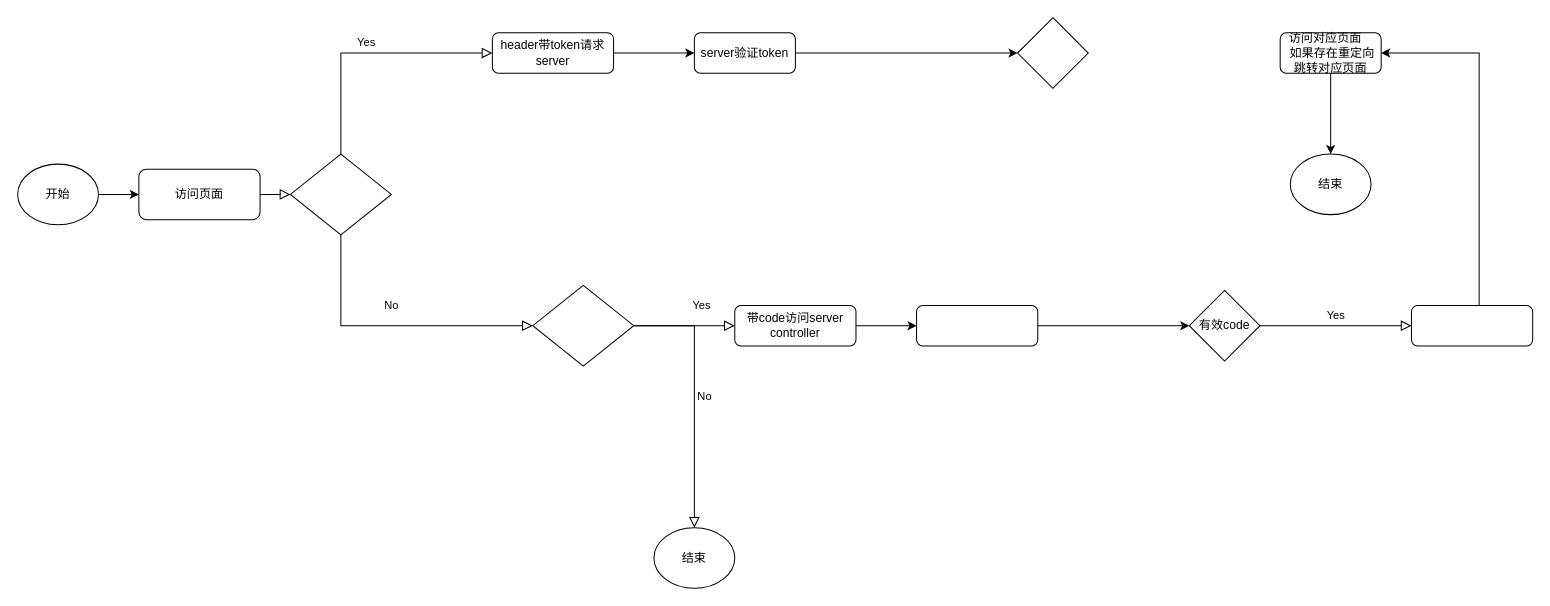
The diagram is 1550 pixels wide and 606 high, and some of its shapes have lost their labels. Here are the shapes that lost their labels. From the top down, the centre of each, then its label:
the point at 1052,52: 有效token
the point at 340,194: 本地是否存在token
the point at 583,325: 跳转P&G登录
the point at 977,325: server验证code
the point at 1471,325: 返回token 页面保存token
